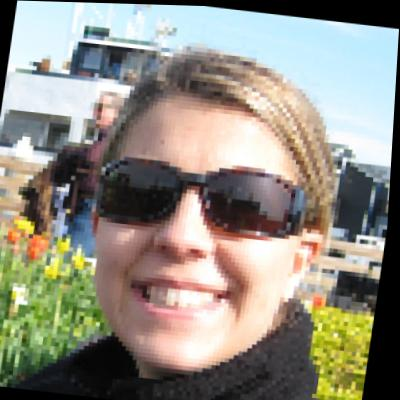happy: (49, 38, 363, 384)
